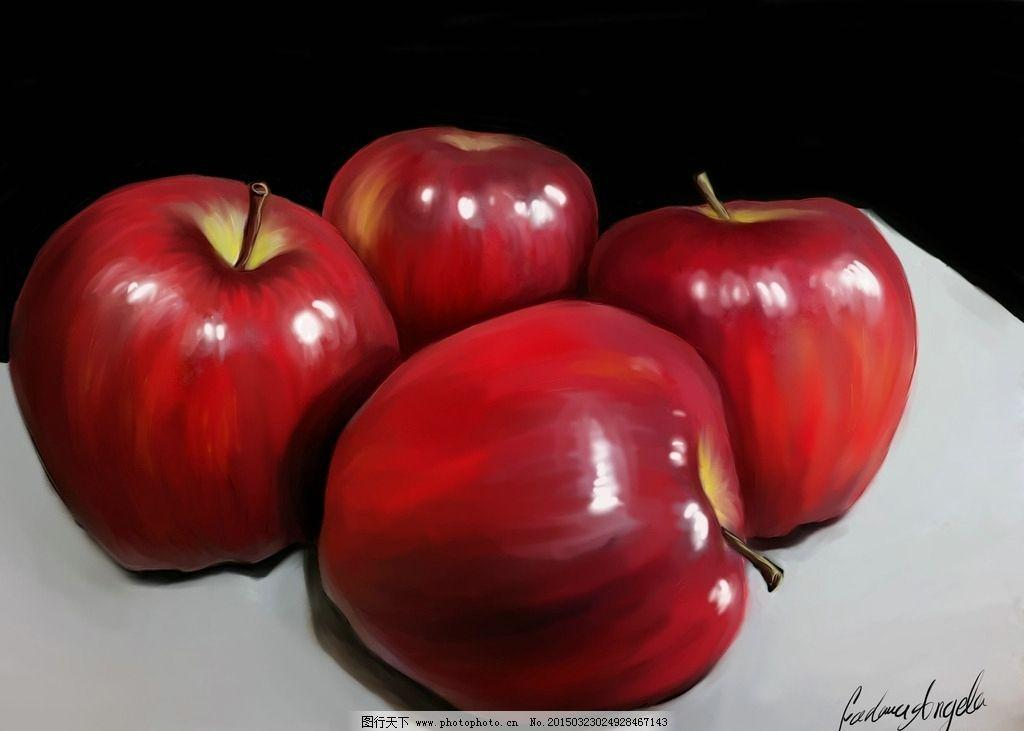apple: (320, 301, 744, 710), (6, 178, 401, 582), (583, 197, 915, 543), (320, 126, 595, 314)
